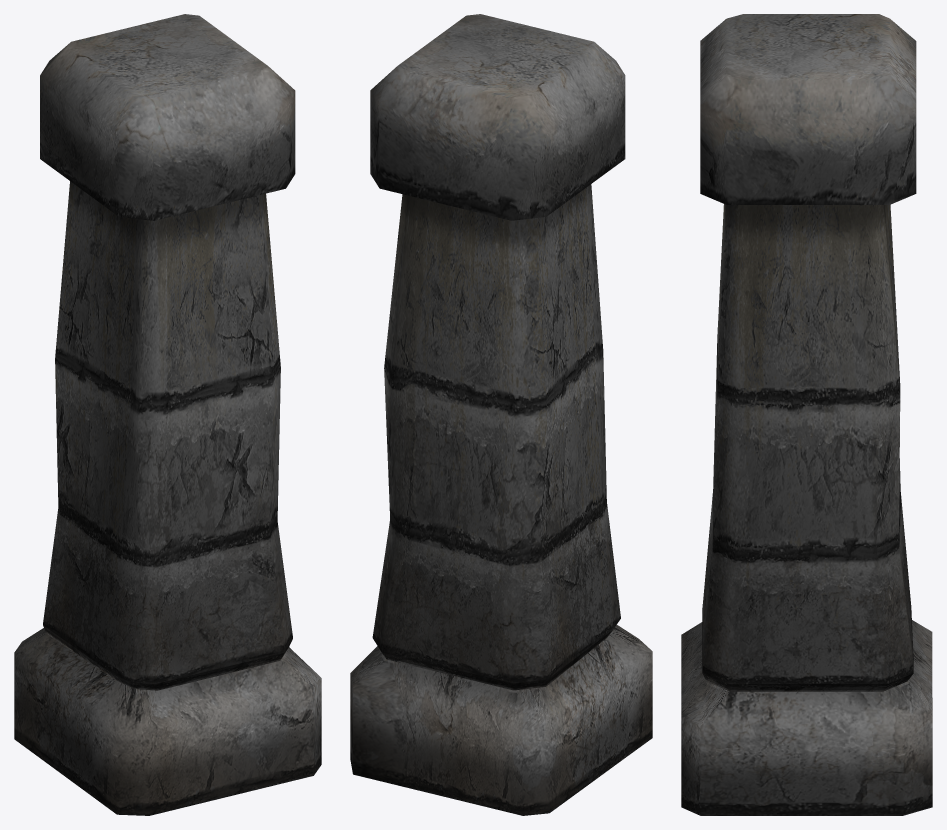
The model's file is column.obj.
3 views of the same model, side by side, from view 1: azimuth 30°, elevation 25°; view 2: azimuth 150°, elevation 25°; view 3: azimuth 270°, elevation 25° (orthographic). The views are drawn at different scales.
Visible parts, largest first — view 1: Grim_Bear_Column; view 2: Grim_Bear_Column; view 3: Grim_Bear_Column.
Part boxes in pixels (x1,y1,x2,y2): Grim_Bear_Column: (14, 14, 321, 815); Grim_Bear_Column: (350, 14, 652, 815); Grim_Bear_Column: (681, 14, 932, 815).
Bounding box in the file's own units: 81.95 × 266 × 84.4.
Materials: 1 (1 with a texture image).
